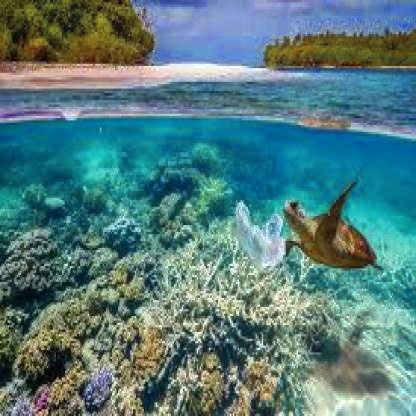pbag: (226, 191, 288, 275)
